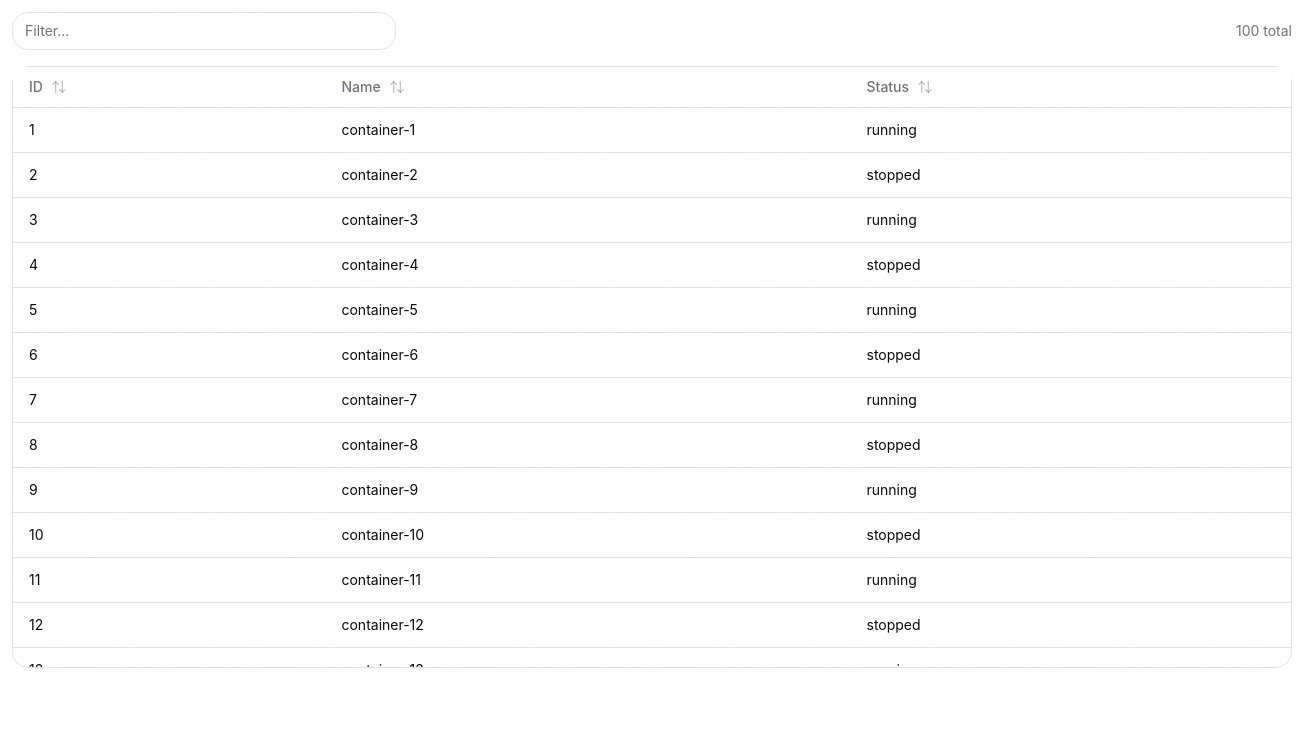
DataTable › virtual scrolling mode (large datasets) › shows filtered count when search is active
In the field with placeholder "Filter...": [204, 31] box [12,12,396,50], type "container-1"
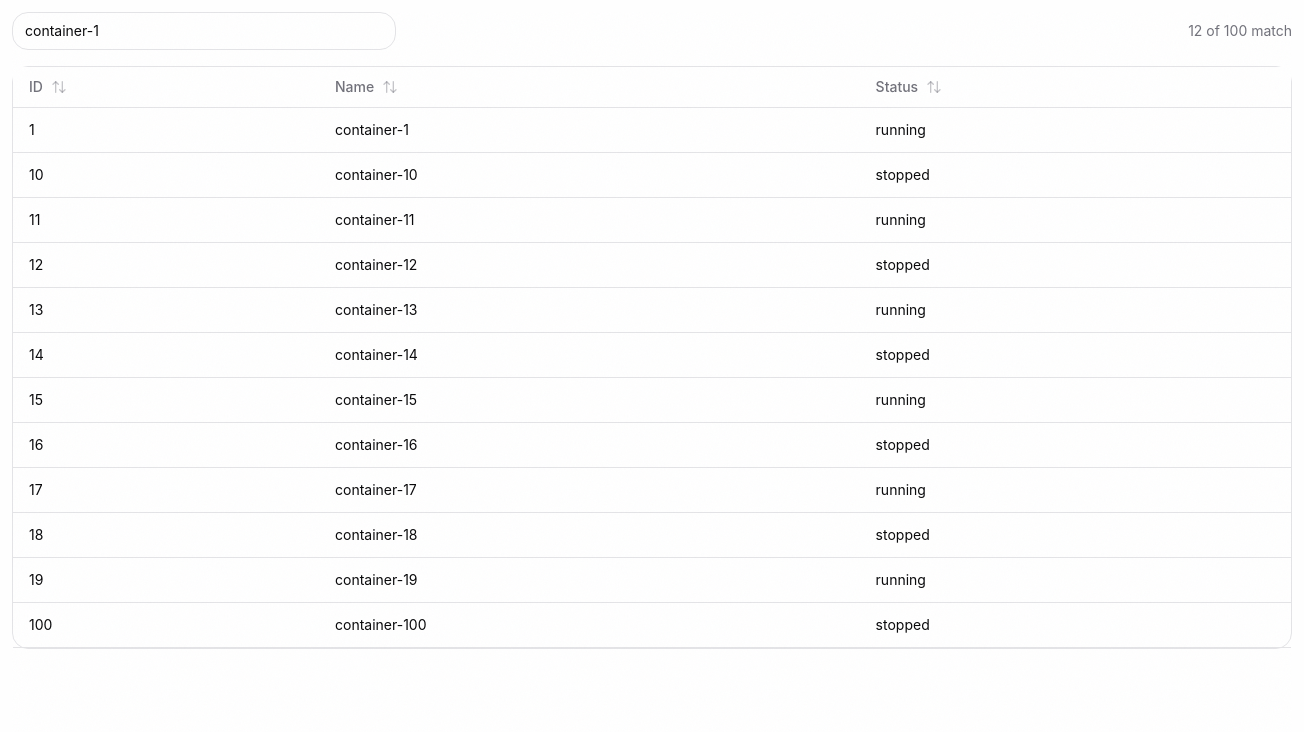
Check: the text with test id "virtual-row-count" shows "of 100", box [1188,22,1292,39]
